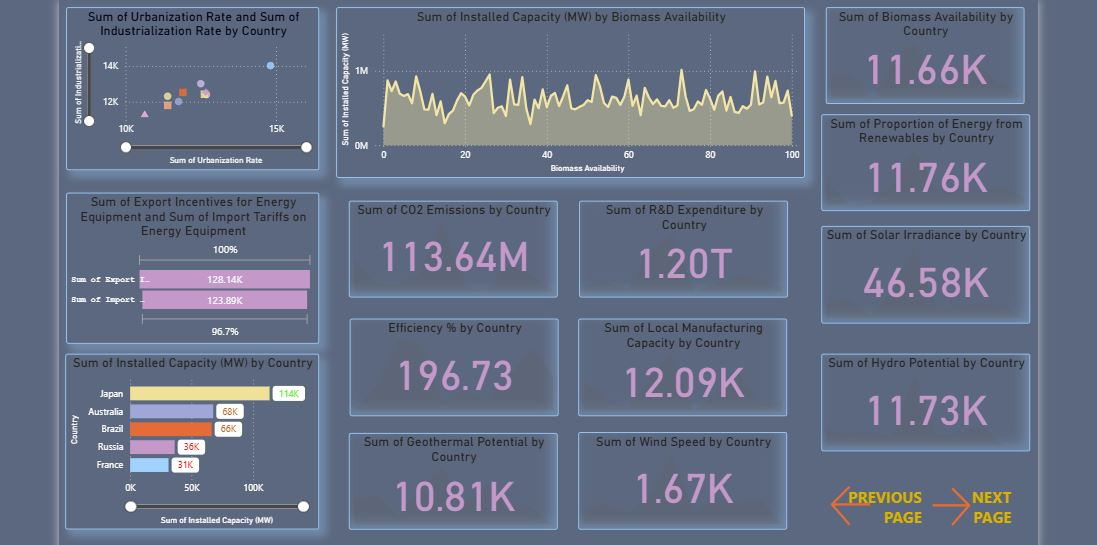

Layout of this report page (visuals, bound fields, positions):
{"tool":"powerbi","page":{"name":"COUNTRY & ENERGY TYPES","canvas":[1280,720],"ordinal":1},"visuals":[{"type":"scatterChart","fields":{"X":["Sum(complete_renewable_energy_dataset.Urbanization Rate)"],"Category":["complete_renewable_energy_dataset.Country"],"Y":["Sum(complete_renewable_energy_dataset.Industrialization Rate)"]},"box":[9.8,9.8,331.3,213.5],"z":0},{"type":"clusteredBarChart","fields":{"Category":["complete_renewable_energy_dataset.Country"],"Y":["Sum(complete_renewable_energy_dataset.Installed Capacity (MW))"]},"box":[8.7,462.8,332.1,230.1],"z":1000},{"type":"funnel","fields":{"Y":["Sum(complete_renewable_energy_dataset.Export Incentives for Energy Equipment)","Sum(complete_renewable_energy_dataset.Import Tariffs on Energy Equipment)"]},"box":[9.8,251.5,331.3,197.5],"z":2000},{"type":"areaChart","fields":{"Category":["complete_renewable_energy_dataset.Biomass Availability"],"Y":["Sum(complete_renewable_energy_dataset.Installed Capacity (MW))"]},"box":[363.2,9.8,613.5,223.3],"z":3000},{"type":"kpi","fields":{"Indicator":["Sum(complete_renewable_energy_dataset.CO2 Emissions)"],"TrendLine":["complete_renewable_energy_dataset.Country"]},"box":[379.1,262.6,273.6,126.4],"z":4000},{"type":"kpi","fields":{"TrendLine":["complete_renewable_energy_dataset.Country"],"Indicator":["Sum(complete_renewable_energy_dataset.Biomass Availability)"]},"box":[1003.7,9.8,260.1,126.4],"z":5000},{"type":"kpi","fields":{"Indicator":["complete_renewable_energy_dataset.Efficiency %"],"TrendLine":["complete_renewable_energy_dataset.Country"]},"box":[380.4,417.2,273.6,127.6],"z":6000},{"type":"kpi","fields":{"Indicator":["Sum(complete_renewable_energy_dataset.Geothermal Potential)"],"TrendLine":["complete_renewable_energy_dataset.Country"]},"box":[379.4,566,273.7,126.9],"z":7000},{"type":"kpi","fields":{"Indicator":["Sum(complete_renewable_energy_dataset.Proportion of Energy from Renewables)"],"TrendLine":["complete_renewable_energy_dataset.Country"]},"box":[997.6,149.7,273.6,126.4],"z":8000},{"type":"kpi","fields":{"Indicator":["Sum(complete_renewable_energy_dataset.Hydro Potential)"],"TrendLine":["complete_renewable_energy_dataset.Country"]},"box":[997.6,462.6,273.6,127.6],"z":9000},{"type":"kpi","fields":{"TrendLine":["complete_renewable_energy_dataset.Country"],"Indicator":["Sum(complete_renewable_energy_dataset.Local Manufacturing Capacity)"]},"box":[679.8,417.2,273.6,127.6],"z":10000},{"type":"kpi","fields":{"TrendLine":["complete_renewable_energy_dataset.Country"],"Indicator":["Sum(complete_renewable_energy_dataset.Solar Irradiance)"]},"box":[997.6,295.7,273.6,127.6],"z":11000},{"type":"kpi","fields":{"Indicator":["Sum(complete_renewable_energy_dataset.R&D Expenditure)"],"TrendLine":["complete_renewable_energy_dataset.Country"]},"box":[681,262.6,273.6,126.4],"z":12000},{"type":"kpi","fields":{"TrendLine":["complete_renewable_energy_dataset.Country"],"Indicator":["Sum(complete_renewable_energy_dataset.Wind Speed)"]},"box":[679.8,565.6,273.6,127.6],"z":13000},{"type":"actionButton","box":[1135,630.7,115.3,62.6],"z":14000},{"type":"actionButton","box":[1003.7,629.5,130.1,65],"z":15000}]}

Visuals, with their boxes in screenshot pixels (x1, y1, x2, y2):
scatterChart - Sum(complete_renewable_energy_dataset.Urbanization Rate) x complete_renewable_energy_dataset.Country: bbox=(56, 2, 313, 167)
clusteredBarChart - complete_renewable_energy_dataset.Country x Sum(complete_renewable_energy_dataset.Installed Capacity (MW)): bbox=(55, 353, 313, 531)
funnel - Sum(complete_renewable_energy_dataset.Export Incentives for Energy Equipment) x Sum(complete_renewable_energy_dataset.Import Tariffs on Energy Equipment): bbox=(56, 189, 313, 342)
areaChart - complete_renewable_energy_dataset.Biomass Availability x Sum(complete_renewable_energy_dataset.Installed Capacity (MW)): bbox=(330, 2, 805, 175)
kpi - Sum(complete_renewable_energy_dataset.CO2 Emissions) x complete_renewable_energy_dataset.Country: bbox=(342, 198, 554, 296)
kpi - complete_renewable_energy_dataset.Country x Sum(complete_renewable_energy_dataset.Biomass Availability): bbox=(826, 2, 1028, 100)
kpi - complete_renewable_energy_dataset.Efficiency % x complete_renewable_energy_dataset.Country: bbox=(343, 318, 555, 416)
kpi - Sum(complete_renewable_energy_dataset.Geothermal Potential) x complete_renewable_energy_dataset.Country: bbox=(343, 433, 555, 531)
kpi - Sum(complete_renewable_energy_dataset.Proportion of Energy from Renewables) x complete_renewable_energy_dataset.Country: bbox=(822, 110, 1034, 208)
kpi - Sum(complete_renewable_energy_dataset.Hydro Potential) x complete_renewable_energy_dataset.Country: bbox=(822, 353, 1034, 452)
kpi - complete_renewable_energy_dataset.Country x Sum(complete_renewable_energy_dataset.Local Manufacturing Capacity): bbox=(575, 318, 787, 416)
kpi - complete_renewable_energy_dataset.Country x Sum(complete_renewable_energy_dataset.Solar Irradiance): bbox=(822, 223, 1034, 322)
kpi - Sum(complete_renewable_energy_dataset.R&D Expenditure) x complete_renewable_energy_dataset.Country: bbox=(576, 198, 788, 296)
kpi - complete_renewable_energy_dataset.Country x Sum(complete_renewable_energy_dataset.Wind Speed): bbox=(575, 433, 787, 531)
actionButton: bbox=(928, 483, 1017, 531)
actionButton: bbox=(826, 482, 927, 532)
